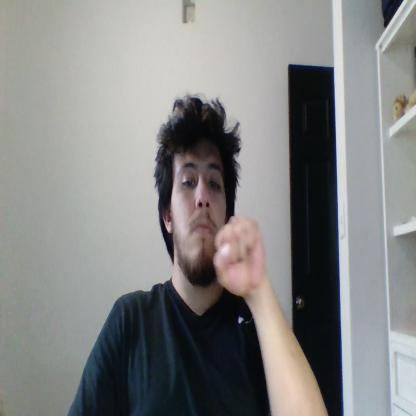S: (214, 215, 264, 297)
